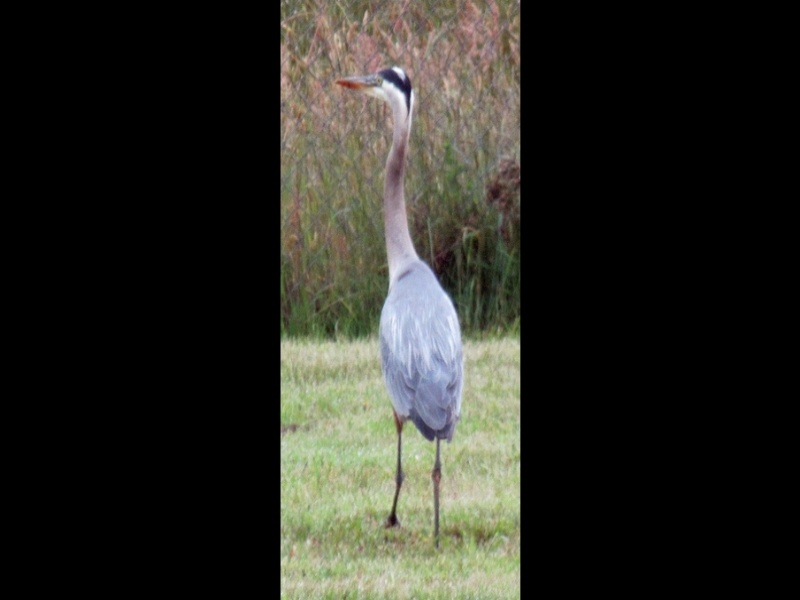heron: (334, 63, 471, 555)
